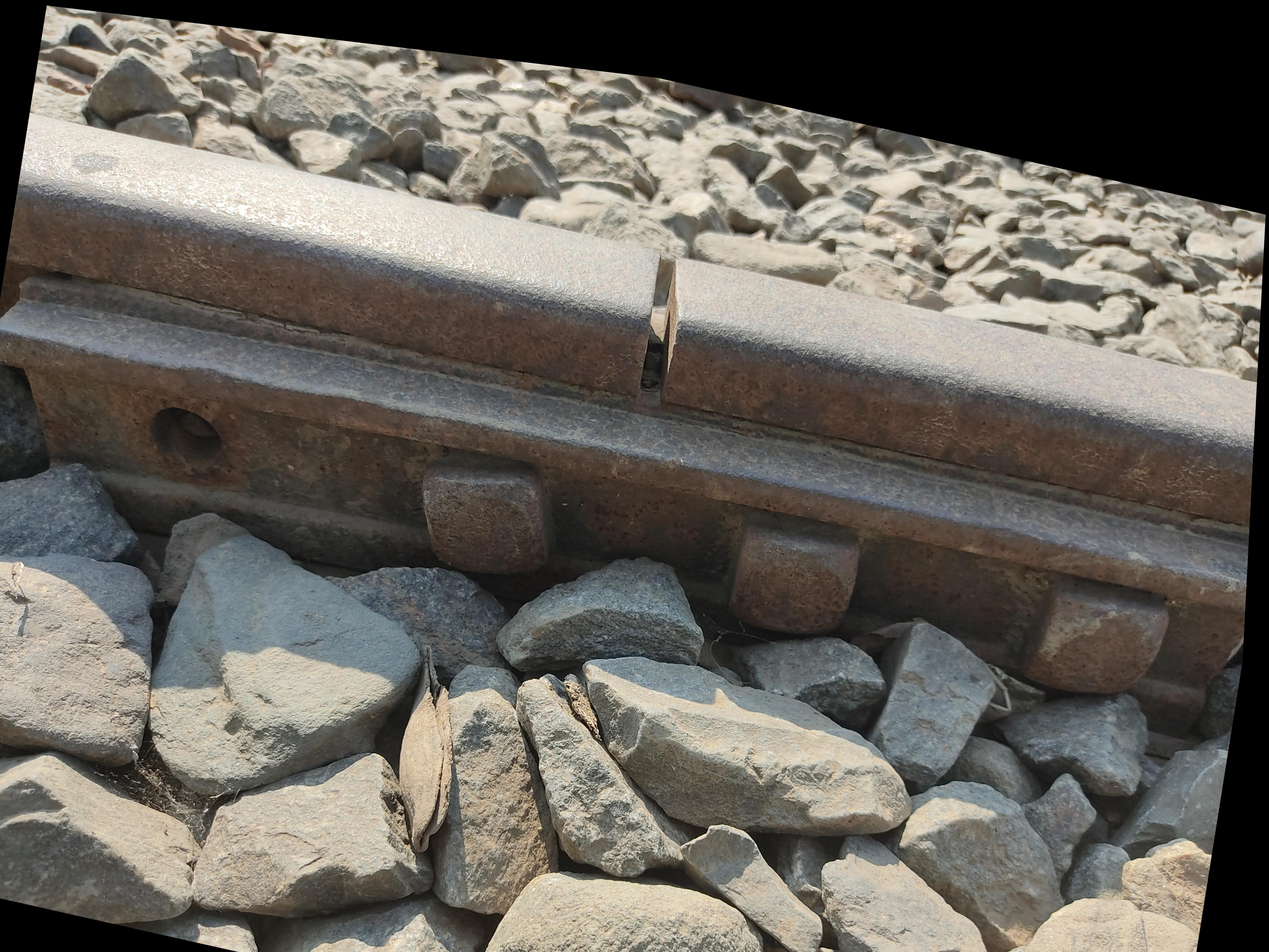person: (577, 109, 850, 394)
